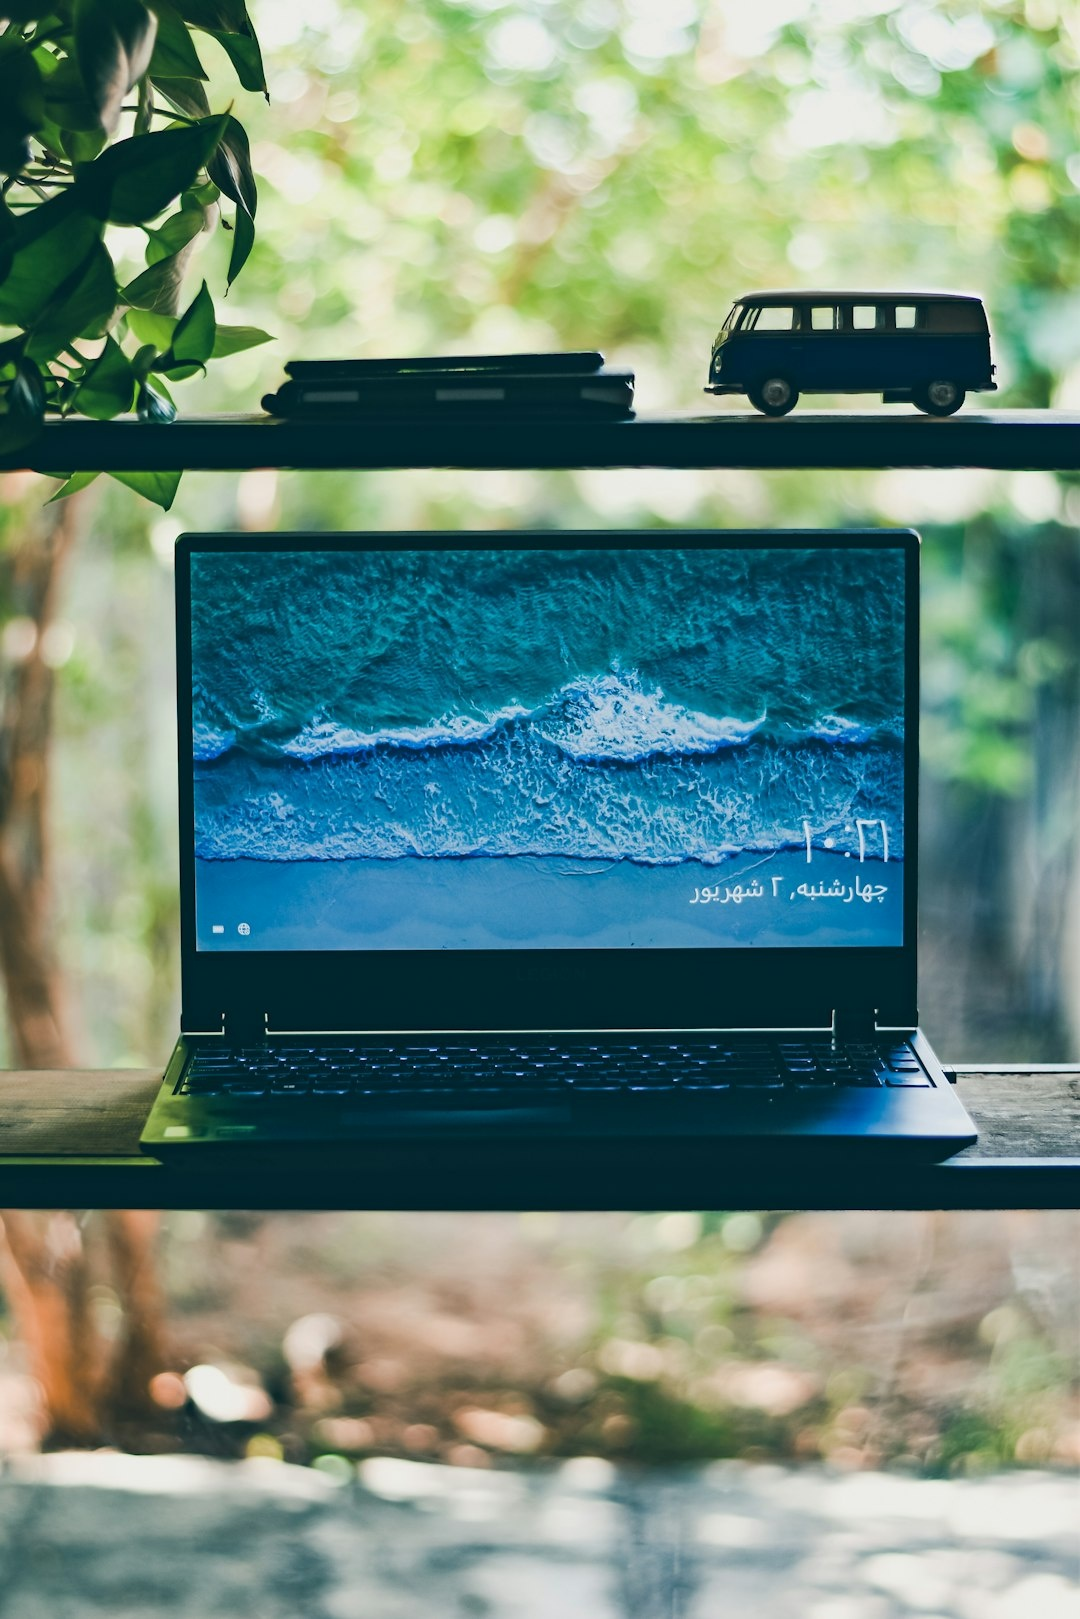laptop: (80, 442, 1038, 1269)
